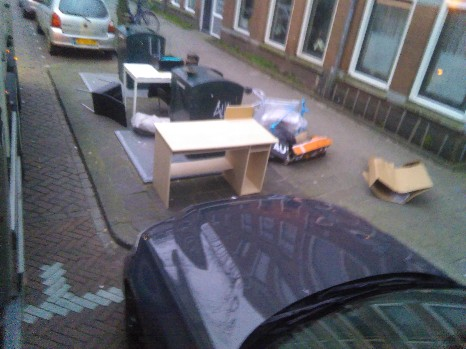Container: (172, 65, 226, 118), (120, 26, 169, 65)
Papier: (375, 157, 431, 205)
Rest: (148, 115, 277, 190), (253, 92, 322, 152), (76, 73, 133, 131), (116, 63, 170, 109)
Voertuig: (121, 210, 441, 349), (36, 6, 107, 54)
